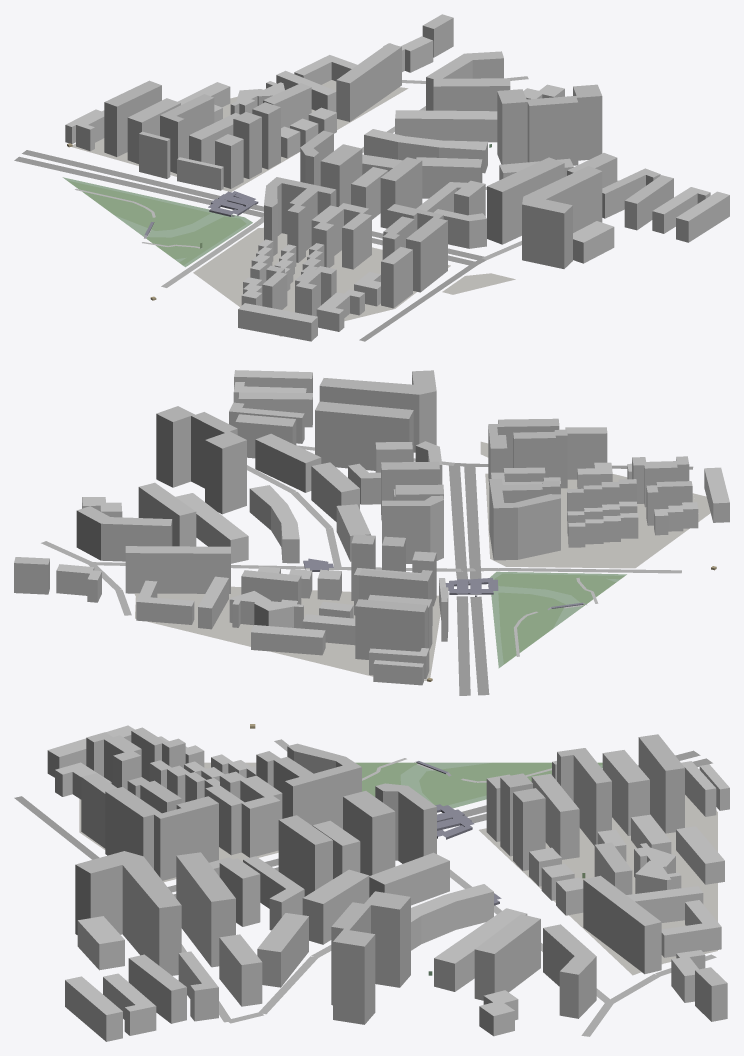
The picture shows the model from 3 angles, top to bottom: view 1: azimuth 30°, elevation 25°; view 2: azimuth 150°, elevation 25°; view 3: azimuth 270°, elevation 25°; orthographic projection. The views are drawn at different scales.
Size of the model in its own units: 584 by 69.59 by 560.
